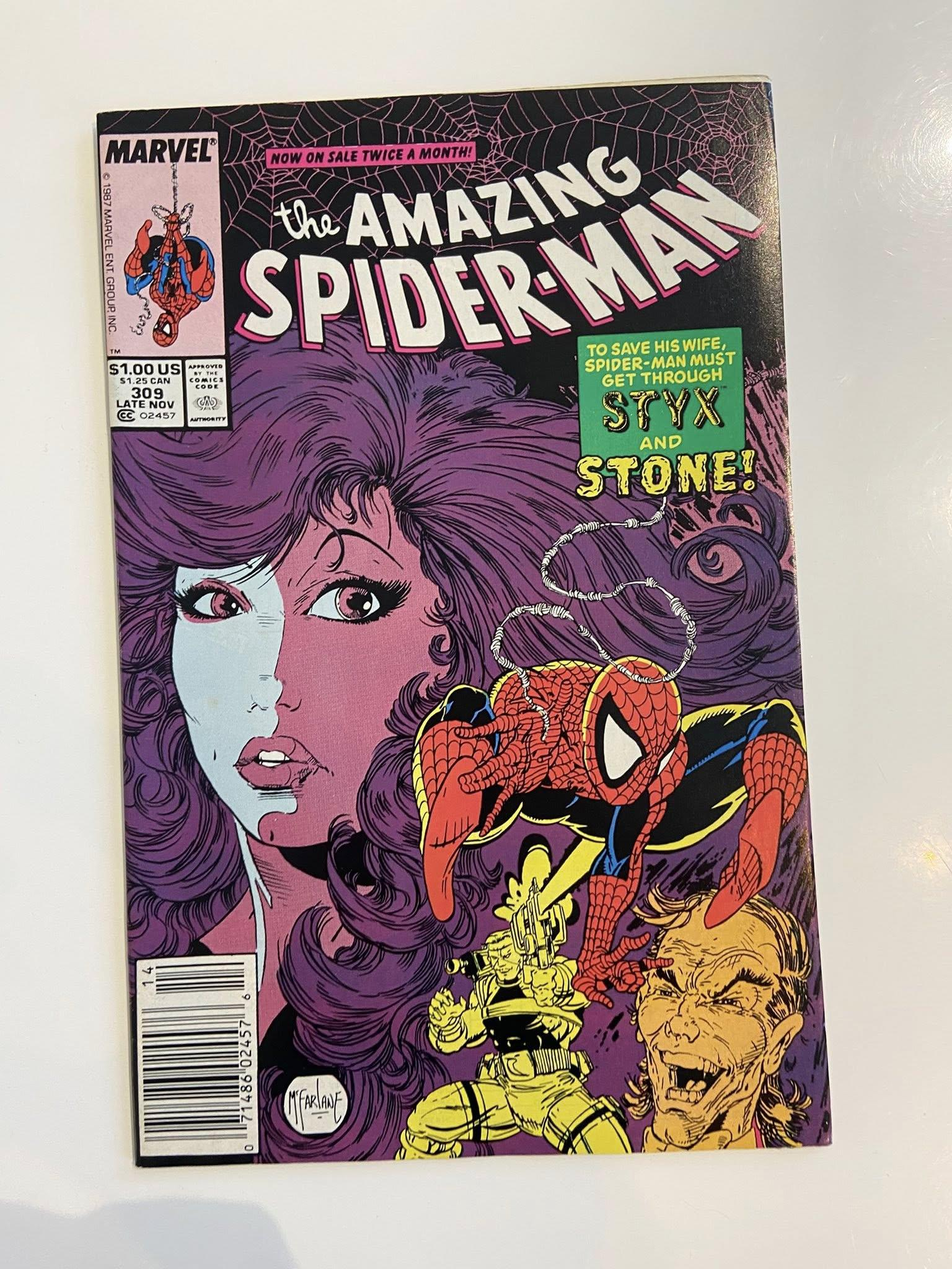comic: (90, 78, 830, 1176)
